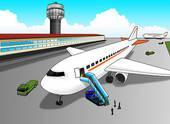aeroplane: (35, 21, 167, 109)
